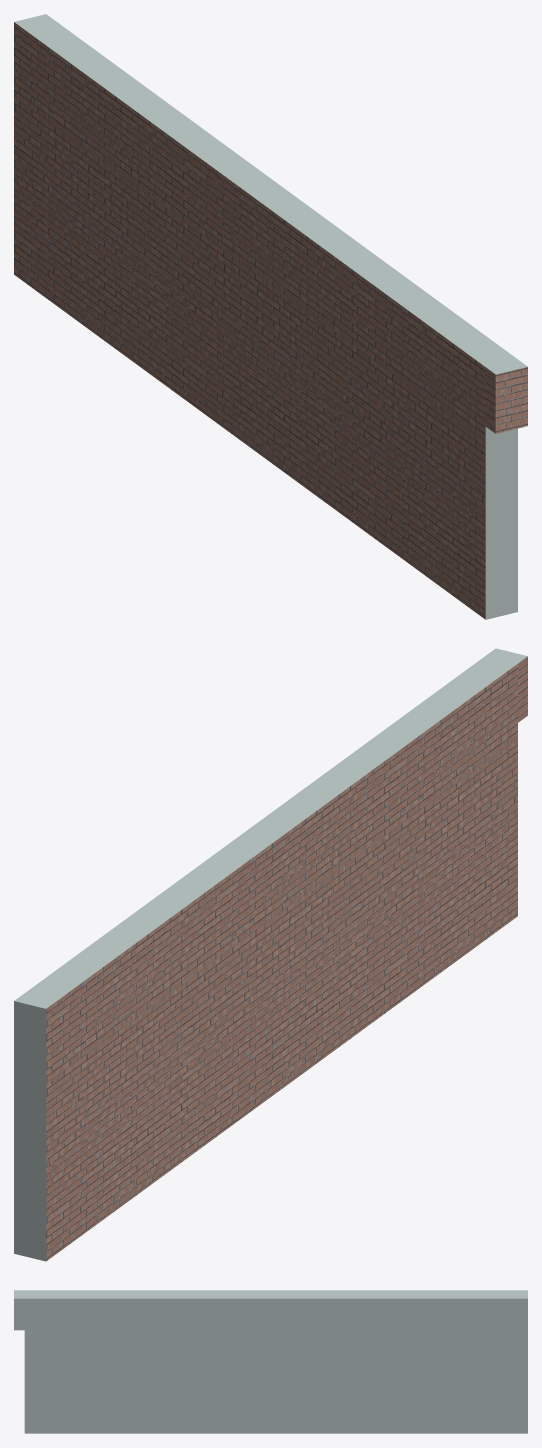
The model's file is PareteFondo.dae.
The picture shows the model from 3 angles, top to bottom: view 1: azimuth 30°, elevation 25°; view 2: azimuth 150°, elevation 25°; view 3: azimuth 270°, elevation 25°; orthographic projection. The views are drawn at different scales.
Parts seen in each view (by area): view 1: PareteFondo; view 2: PareteFondo; view 3: PareteFondo.
Boxes of the visible parts, x1,y1,x2,y2 form: PareteFondo: (14, 14, 527, 619); PareteFondo: (14, 648, 527, 1261); PareteFondo: (14, 1290, 527, 1433).
Bounding box in the file's own units: 0.4 × 10.37 × 3.
